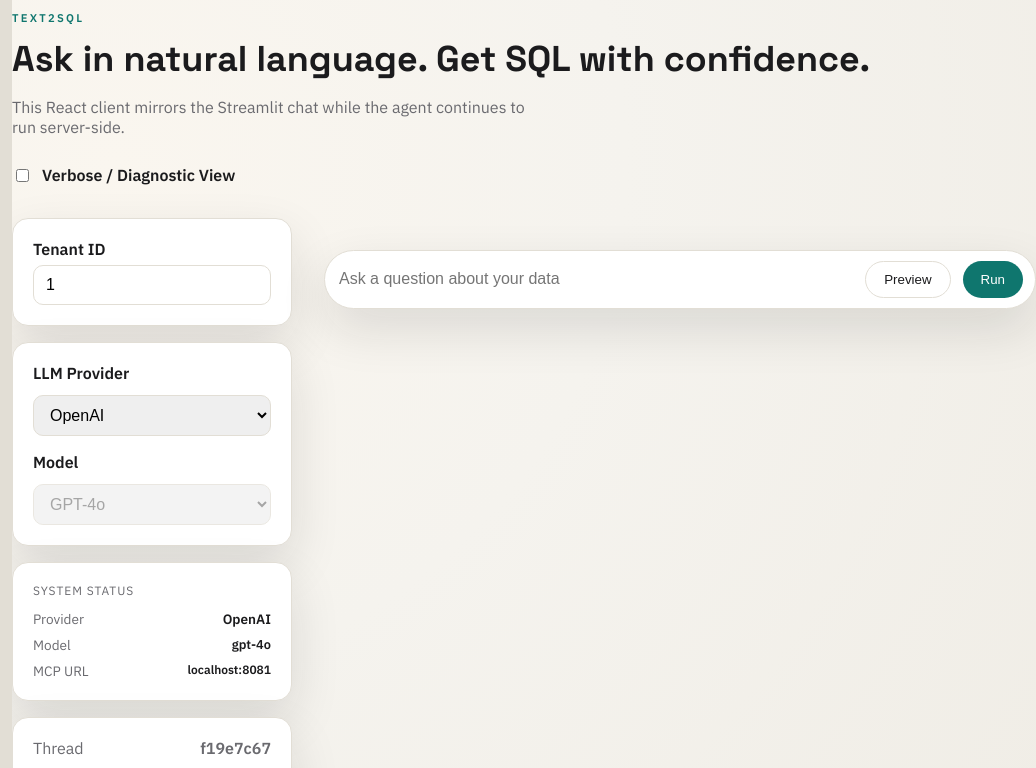
it: AgentChat streaming › aborts previous stream when new query is submitted
Submit first query (stream will hang)
Type "first query" into the field with placeholder "Ask a question about your data". click: (595, 279)
box: [337,261,853,298]
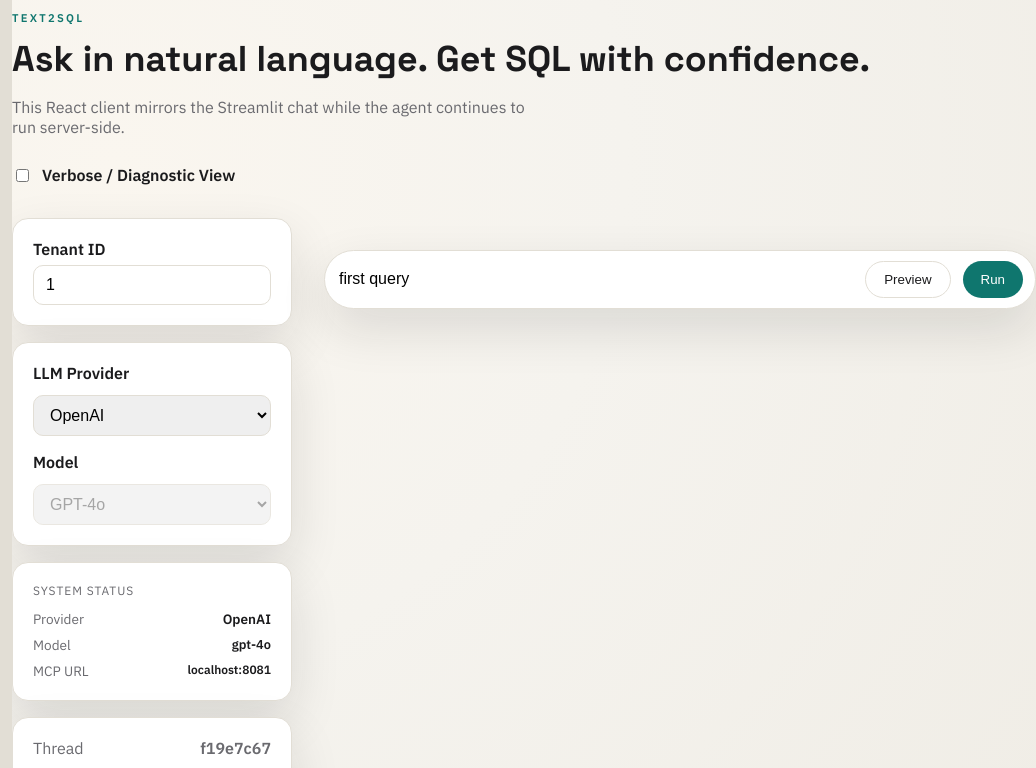
Submit the form with placeholder "ask a question", box [324,250,1035,309]
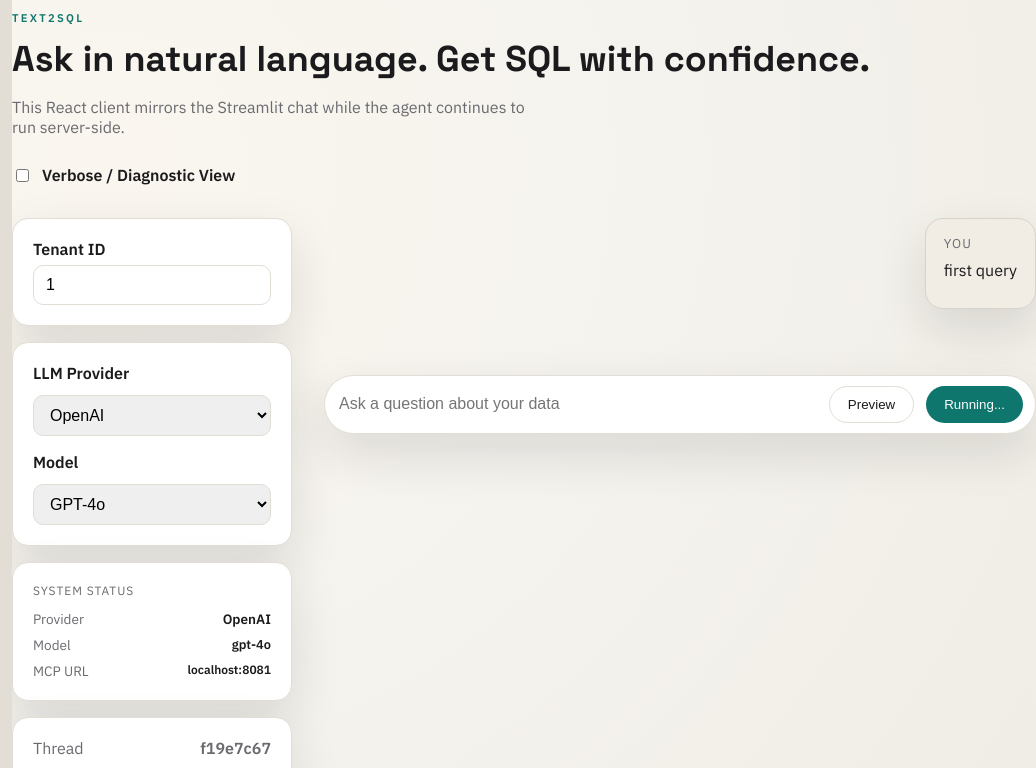
Submit second query (should abort first and start new stream)
Type "second query" into the field with placeholder "Ask a question about your data". click: (577, 404)
box: [337,386,817,423]
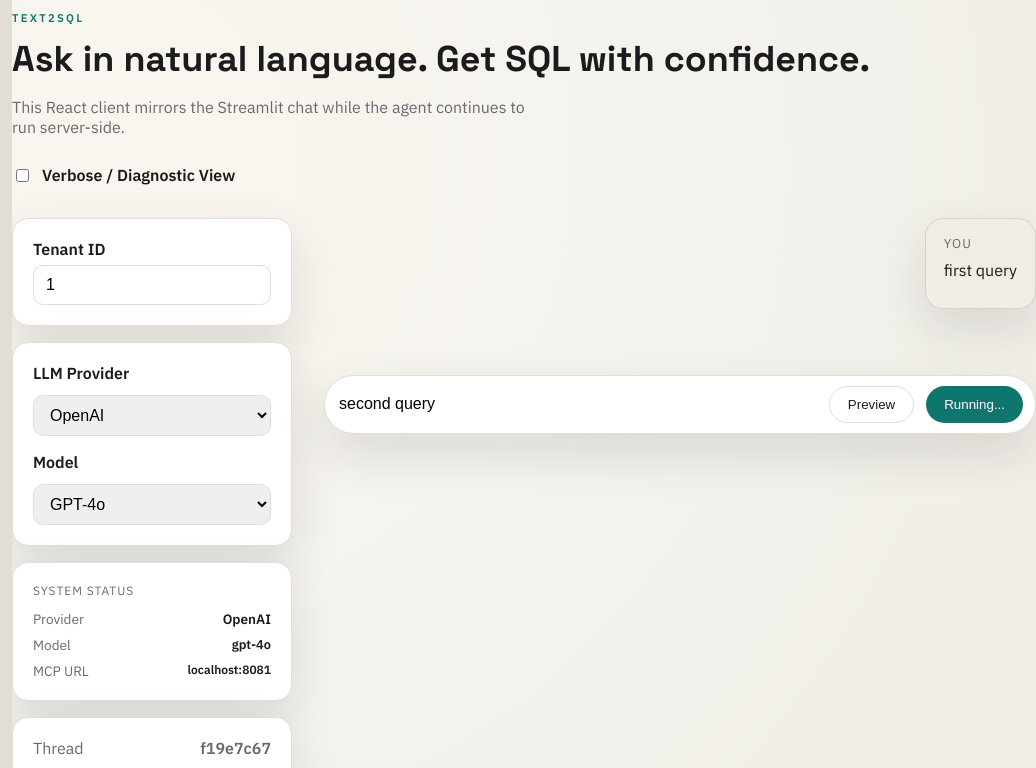
Submit the form with placeholder "ask a question", box [324,375,1035,434]
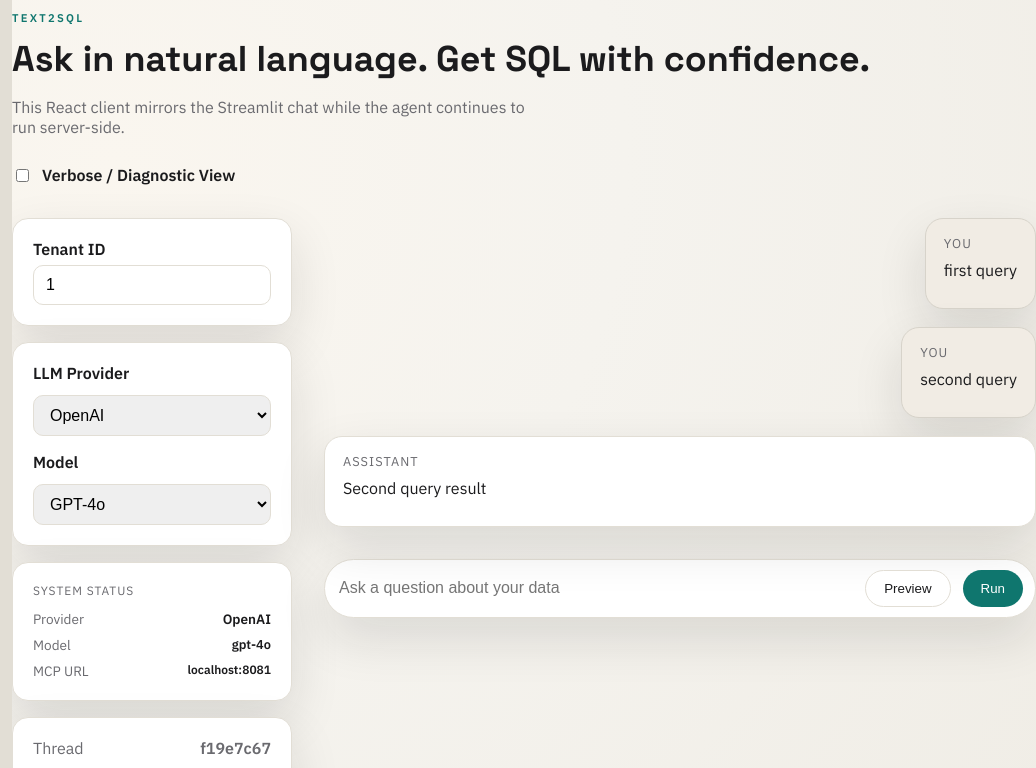
Expected: the text "Second query result" is shown, [343,478,486,498]
